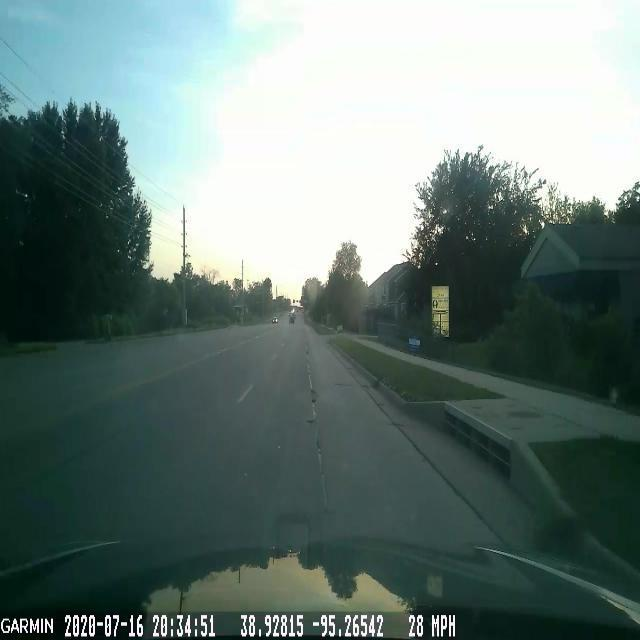pothole: (305, 382, 324, 410), (301, 410, 319, 432)
